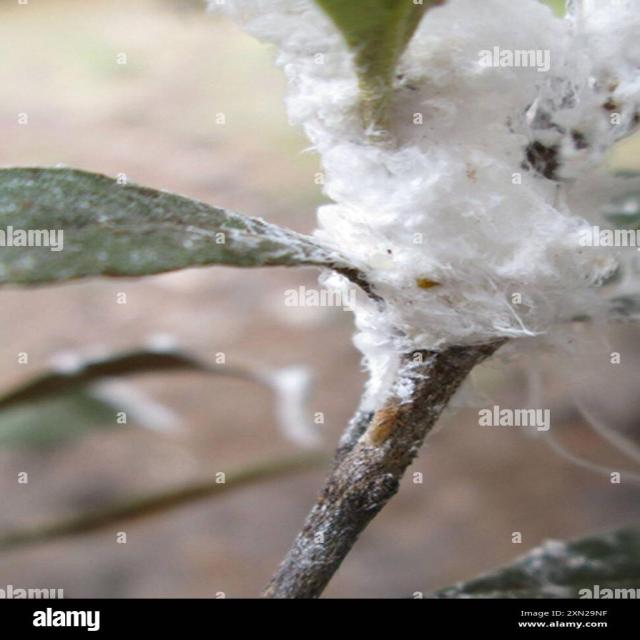Psyllid: (212, 0, 639, 404)
